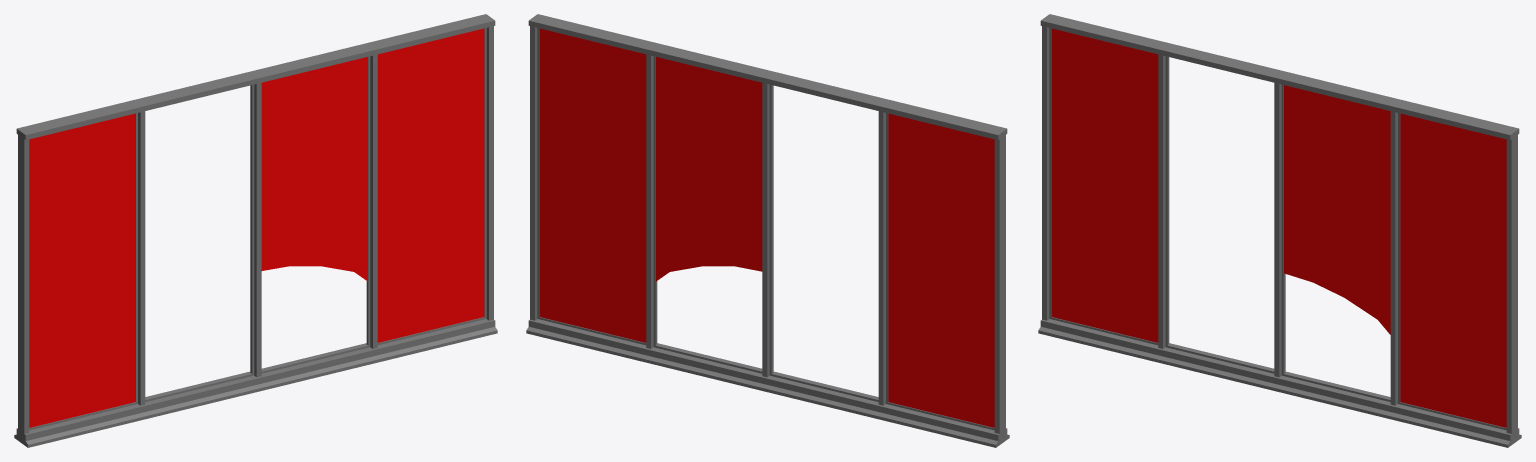
Rendered from Window03_Broken03.fbx.
The picture shows the model from 3 angles, left to right: view 1: azimuth 30°, elevation 25°; view 2: azimuth 150°, elevation 25°; view 3: azimuth 330°, elevation 25°; orthographic projection.
Visible parts, largest first — view 1: Window03_Broken03; view 2: Window03_Broken03; view 3: Window03_Broken03.
Part boxes in pixels (x1,y1,x2,y2): Window03_Broken03: (14,14,497,447); Window03_Broken03: (526,14,1009,447); Window03_Broken03: (1038,14,1521,447).
Size of the model in its own units: 240 by 152 by 12.
